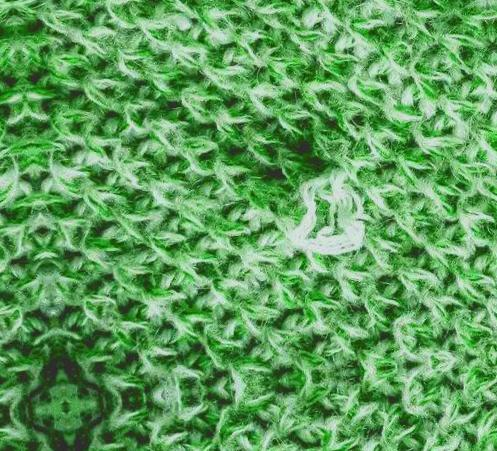snag: (276, 166, 370, 262)
